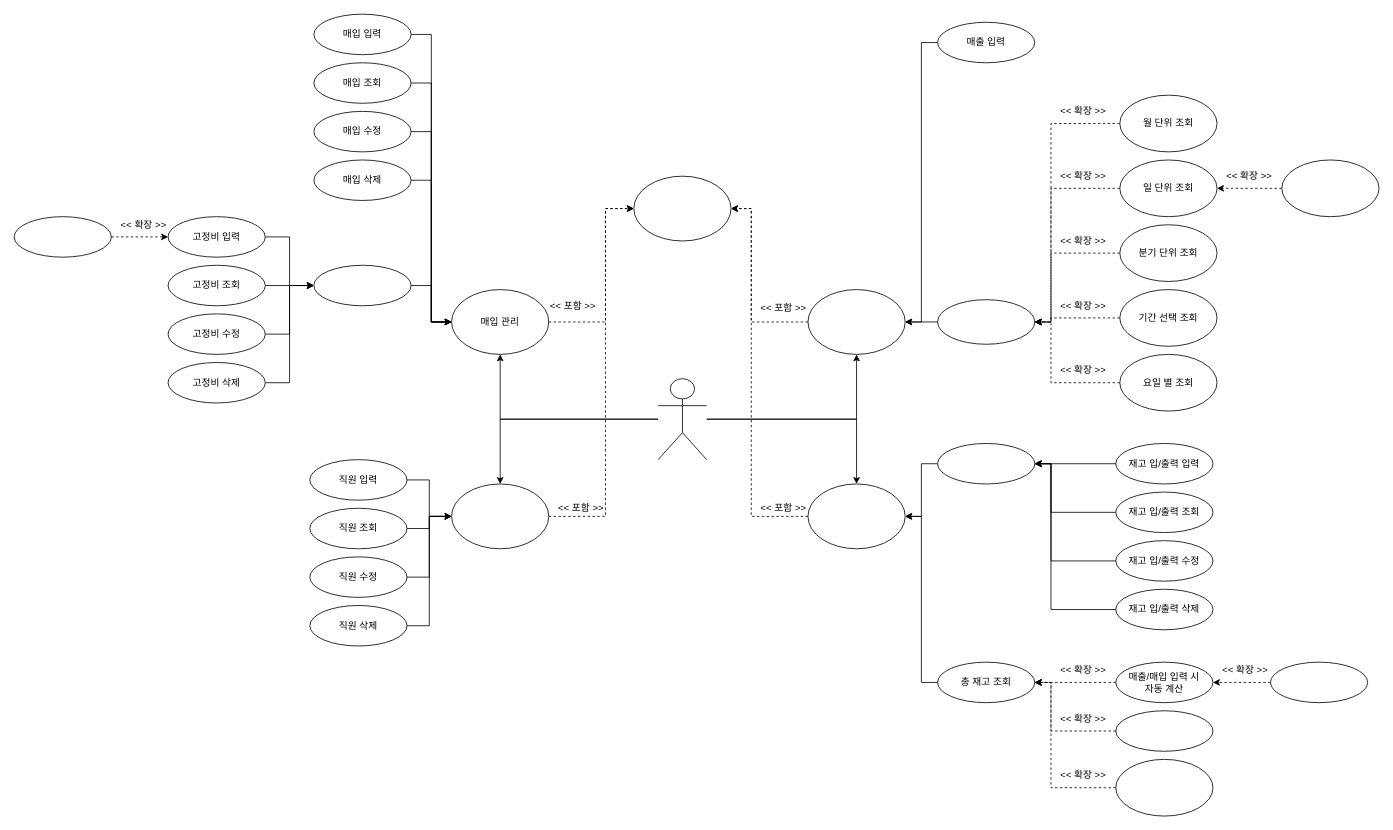
Image size: 1393x830. Some labels were removed from this diagram. The centre of each missing label's shape, as x and y in pixels:
1시간 단위 자동 저장 데이터 반영: [1319,682]
고정비 관리: [362,285]
고정비 지정 날짜 해당일 알림: [62,236]
달력을 이용한 시각화: [1330,188]
로그인: [682,208]
매출 관리: [856,321]
매출 조회: [986,321]
사용자: [682,419]
일정 수준 이하 도달 시 알림: [1164,730]
재고 관리: [856,516]
재고 입/출력 관리: [986,463]
직원 관리: [500,516]
현재 재고량으로 생산 가능한 제품량 계산: [1164,787]
